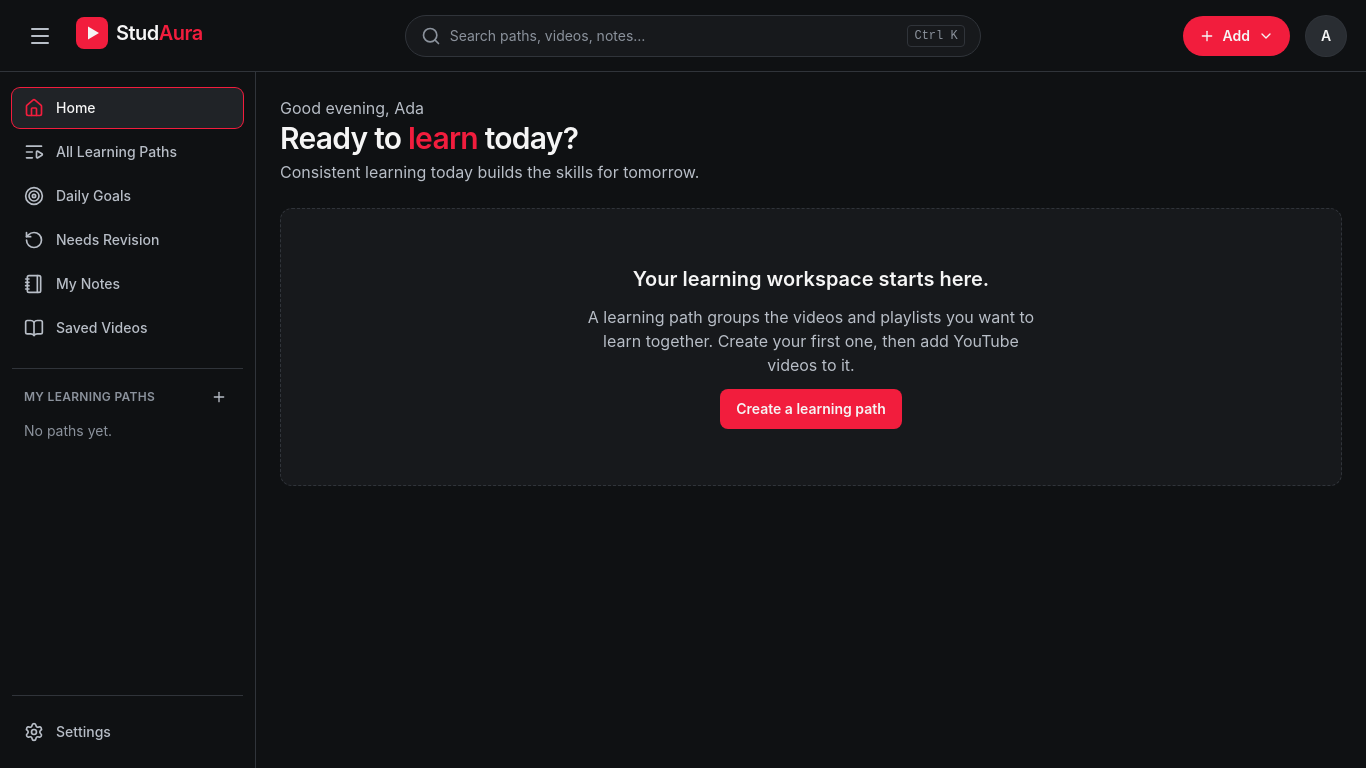
Test: dashboard › the empty state opens the create-path dialog
Click the button "Create a learning path": {"x": 811, "y": 409} [720,389,902,429]
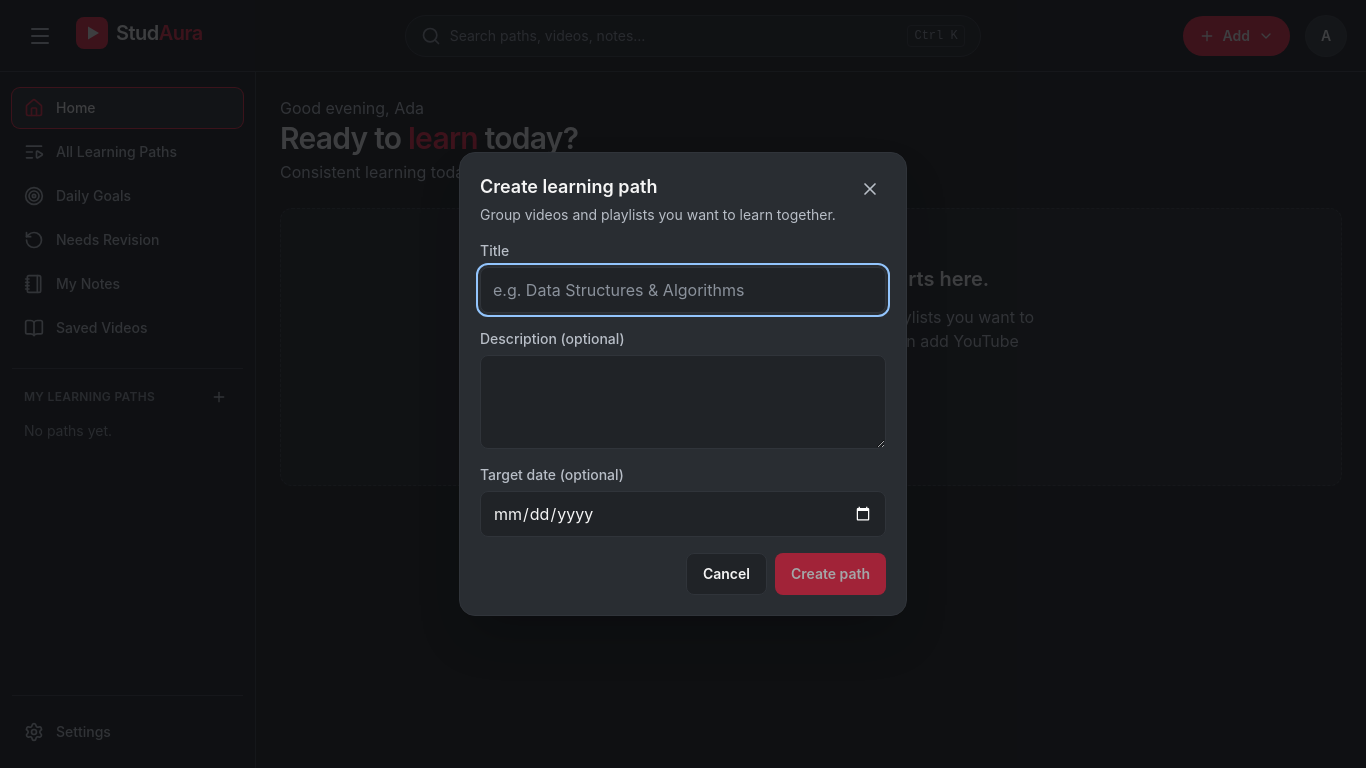
Check: the dialog "Create learning path" is shown, box [459,152,907,616]
